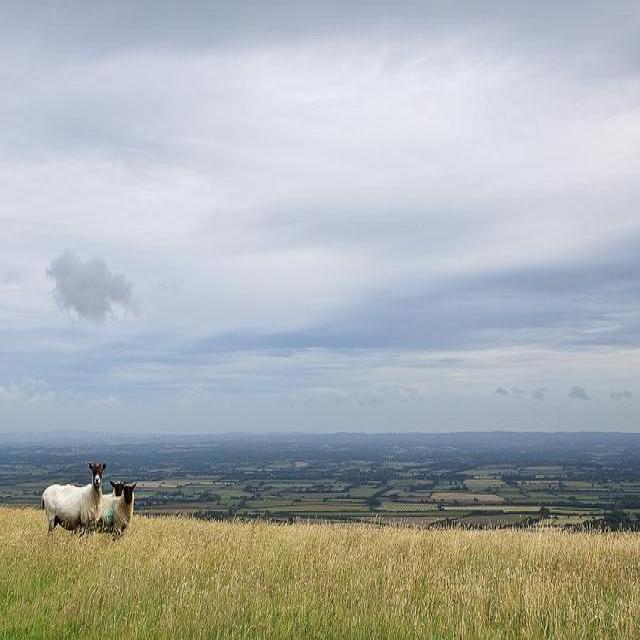Sheep: (41, 463, 108, 540), (95, 481, 137, 537)
